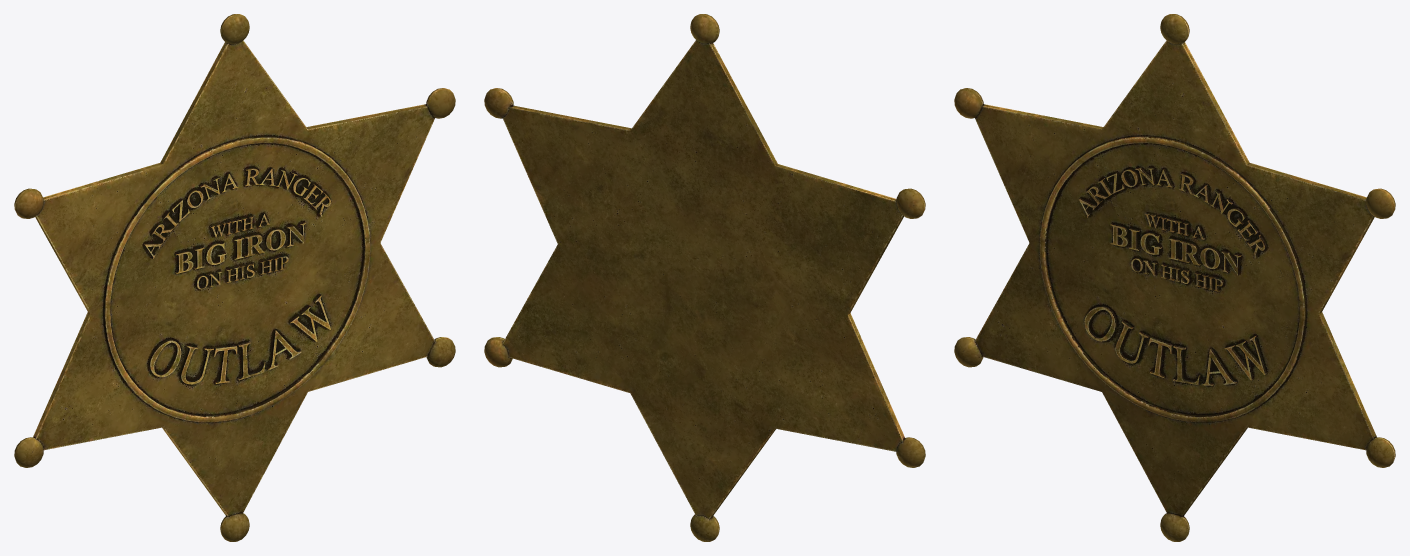
Rendered from sheriff-badge.glb.
The picture shows the model from 3 angles, left to right: view 1: azimuth 30°, elevation 25°; view 2: azimuth 150°, elevation 25°; view 3: azimuth 330°, elevation 25°; orthographic projection.
Parts seen in each view (by area): view 1: Badge; view 2: Badge; view 3: Badge.
Boxes of the visible parts, x1=… form: Badge: x1=14, y1=14, x2=455, y2=541; Badge: x1=484, y1=14, x2=925, y2=541; Badge: x1=954, y1=14, x2=1395, y2=541.
Bounding box in the file's own units: 4.56 × 5.22 × 0.169.
Materials: 1 (1 with a texture image).
